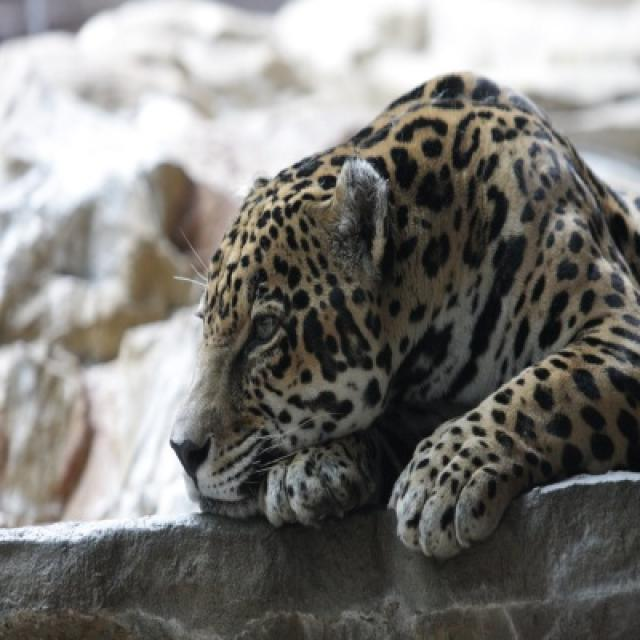Jaguar: (170, 72, 638, 563)
